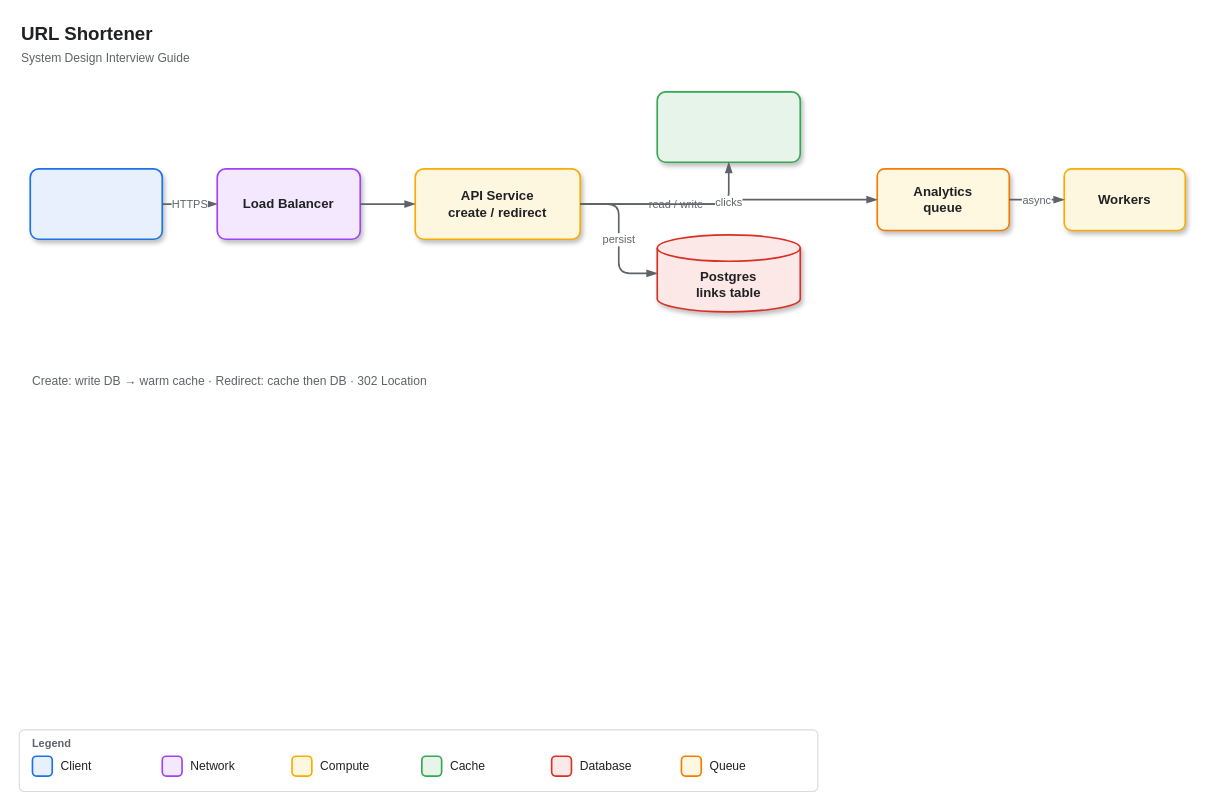
This 1212x811 diagram has some shape labels left out. The centre of each missing label's shape, as x and y in pixels:
Client (Web / Mobile): point 97,205
Redis code → URL: point 729,128
